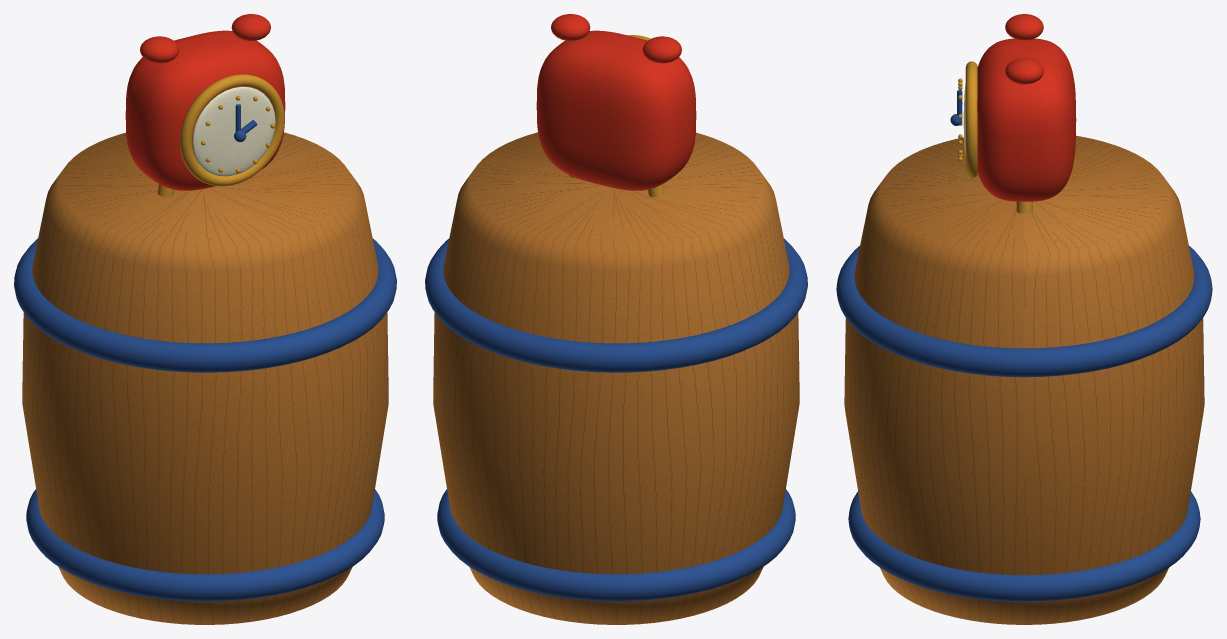
Rendered from barrel.glb.
3 views of the same model, side by side, from view 1: azimuth 30°, elevation 25°; view 2: azimuth 150°, elevation 25°; view 3: azimuth 270°, elevation 25° (orthographic).
Parts seen in each view (by area): view 1: barrel_warm wood, barrel_blue iron, barrel_red upholstery, barrel_cream rubber, barrel_aged gold; view 2: barrel_warm wood, barrel_blue iron, barrel_red upholstery; view 3: barrel_warm wood, barrel_blue iron, barrel_red upholstery, barrel_aged gold.
Boxes of the visible parts, box(x1,y1,x2,y2) form: barrel_warm wood: box(22, 132, 388, 624); barrel_blue iron: box(14, 104, 396, 601); barrel_red upholstery: box(125, 14, 285, 190); barrel_cream rubber: box(192, 86, 275, 176); barrel_aged gold: box(157, 74, 284, 197); barrel_warm wood: box(433, 132, 799, 624); barrel_blue iron: box(425, 238, 807, 601); barrel_red upholstery: box(536, 14, 696, 190); barrel_warm wood: box(844, 135, 1204, 624); barrel_blue iron: box(836, 90, 1212, 601); barrel_red upholstery: box(977, 14, 1076, 201); barrel_aged gold: box(958, 61, 1032, 213).
Size of the model in its own units: 0.564 by 0.8694 by 0.564.
5 materials, 4 textured.
